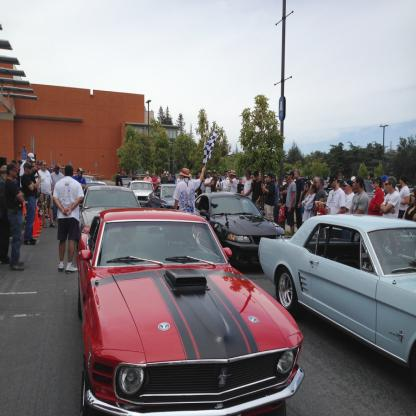Car: (75, 176, 416, 416)
